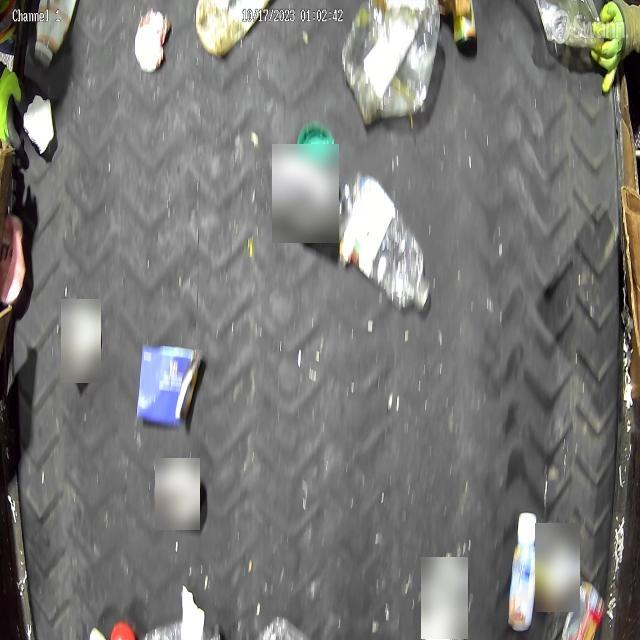plastic_bottle: (338, 174, 430, 312)
